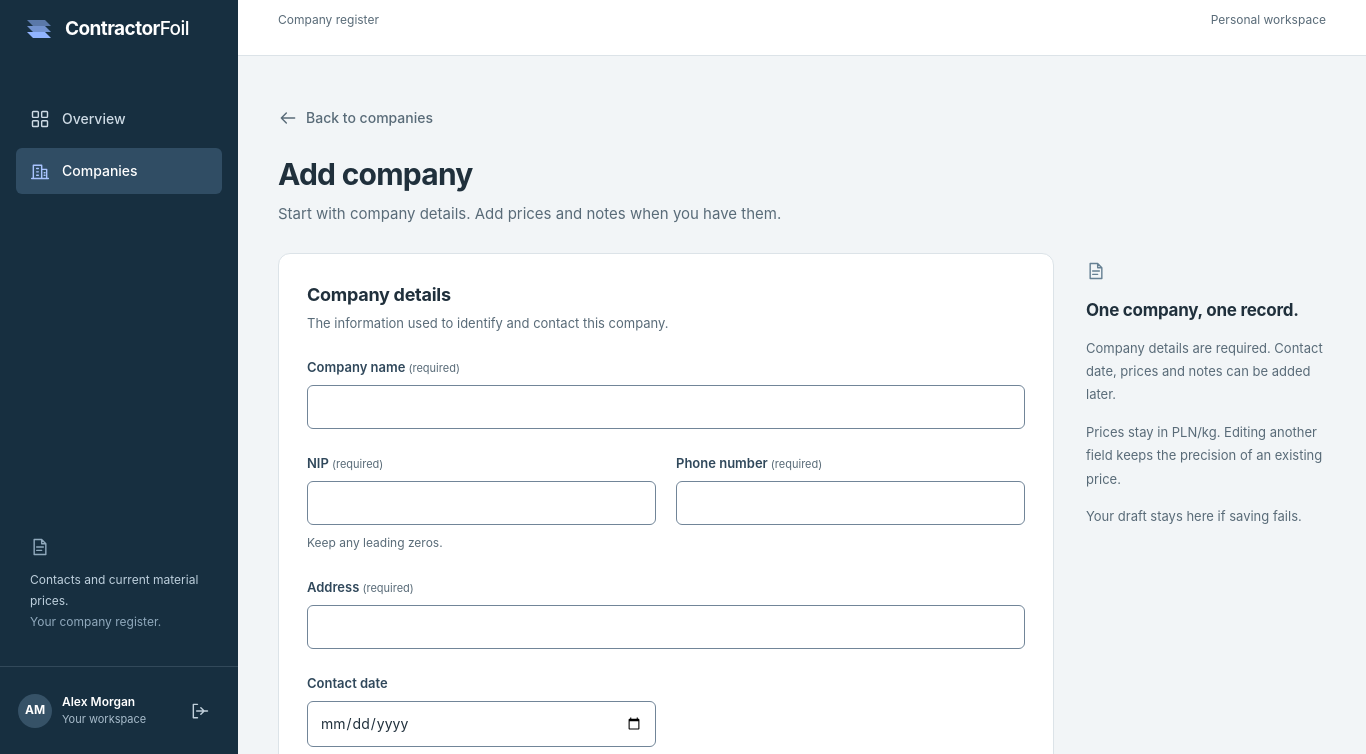
Scenario: prevents repeated submissions while a save is pending
Type "Riverbank Polymers" into the field labelled "Company name (required)". click: [666, 407]
box: [307,385,1025,429]
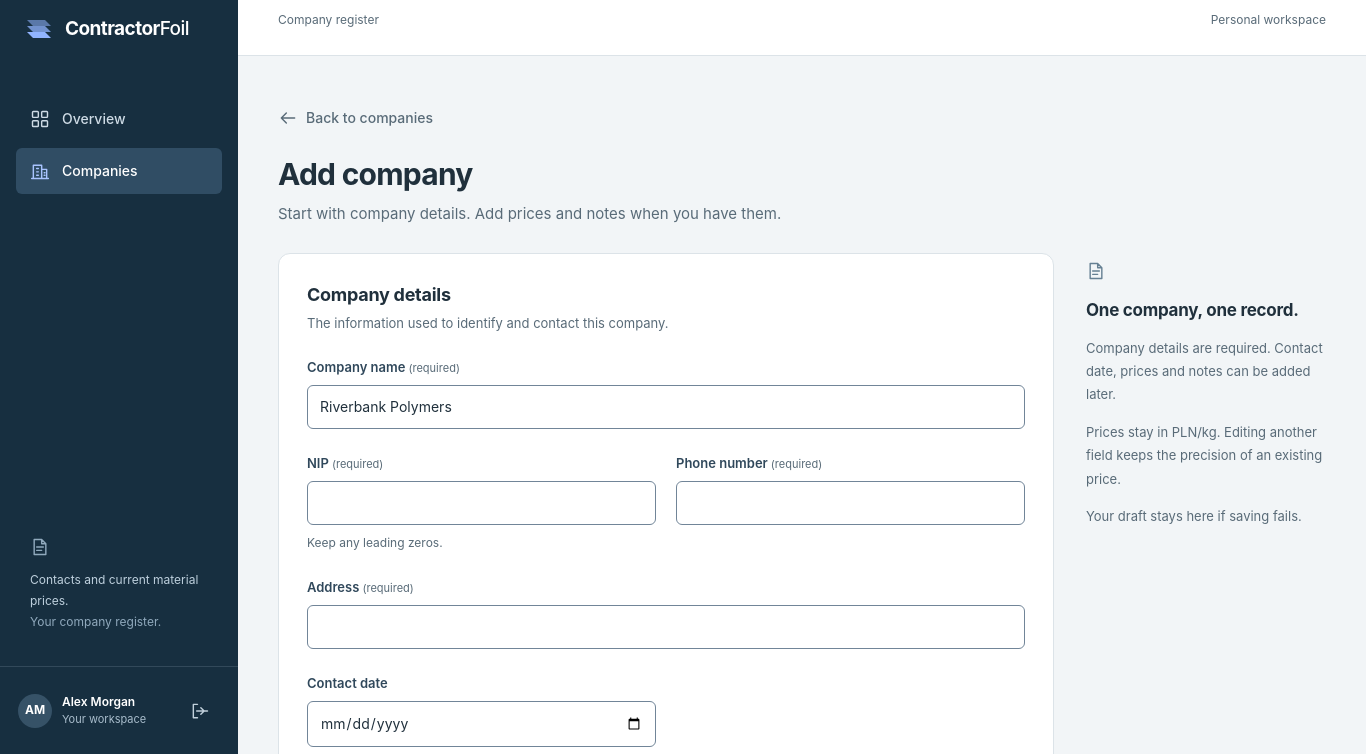
Type "0001234567" into the field labelled "NIP (required)". click: [482, 503]
box: [307,481,656,525]
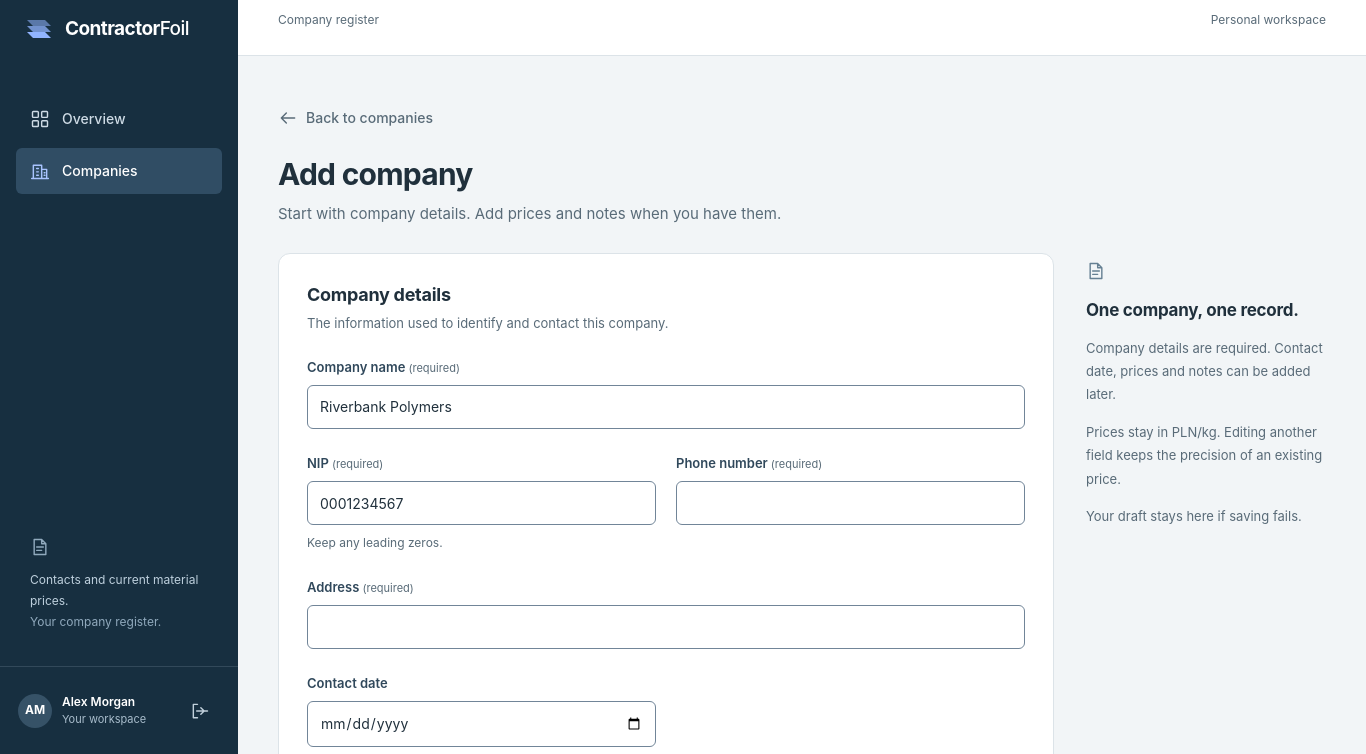
Type "+48 987 654 321" into the field labelled "Phone number (required)". click: [850, 503]
box: [676,481,1025,525]
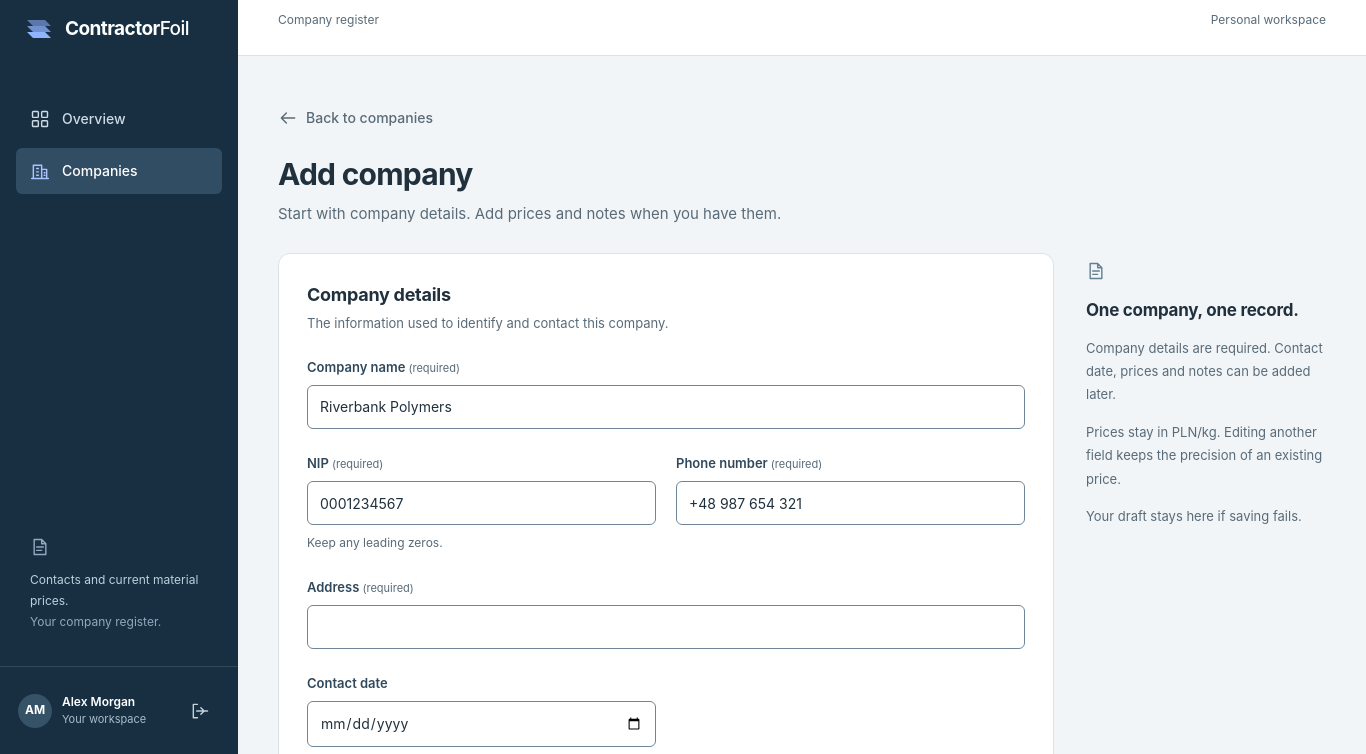
Type "42 Example Avenue" into the field labelled "Address (required)". click: [666, 627]
box: [307,605,1025,649]
(page scrolled)
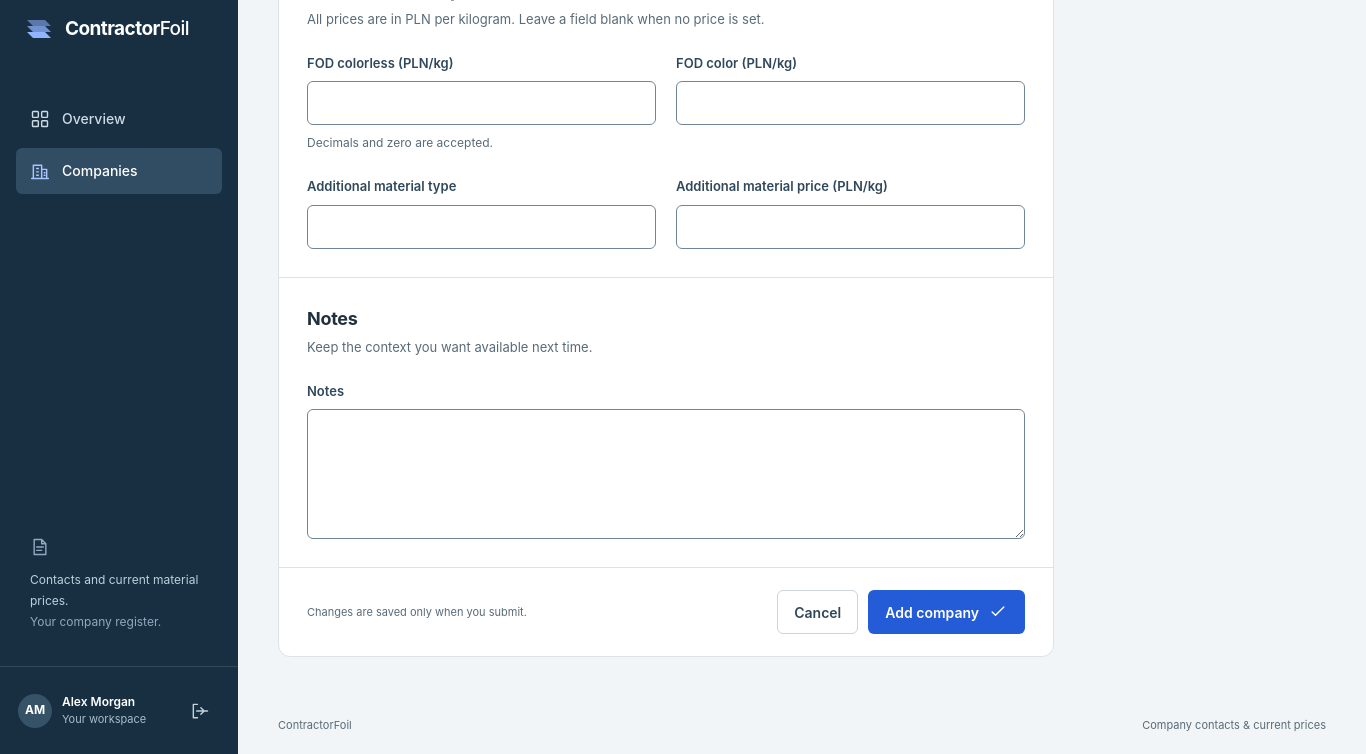
Click the button "Add company". click: [947, 612]
box: [868,590,1025,634]
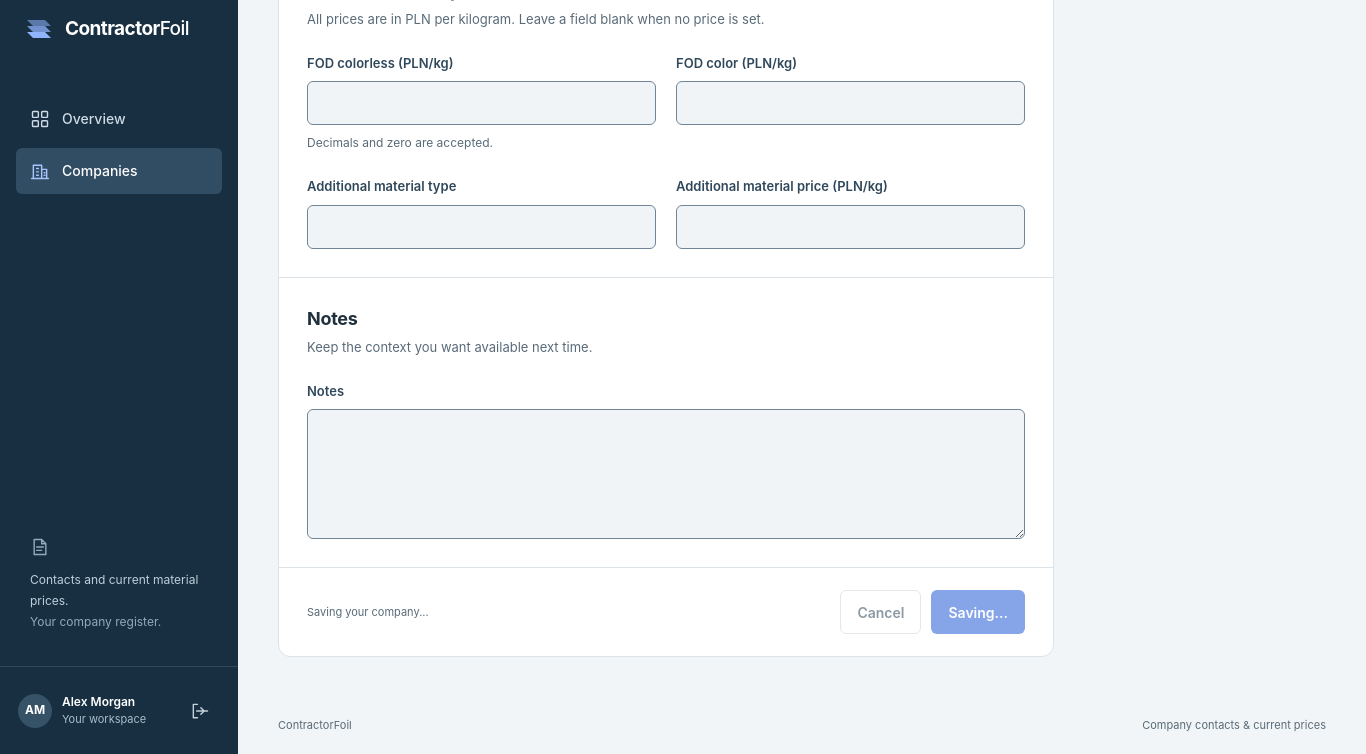
Check: the button "Saving..." is disabled
Click the button "Saving...". click: [978, 612]
box: [932,590,1025,634]
(page scrolled)
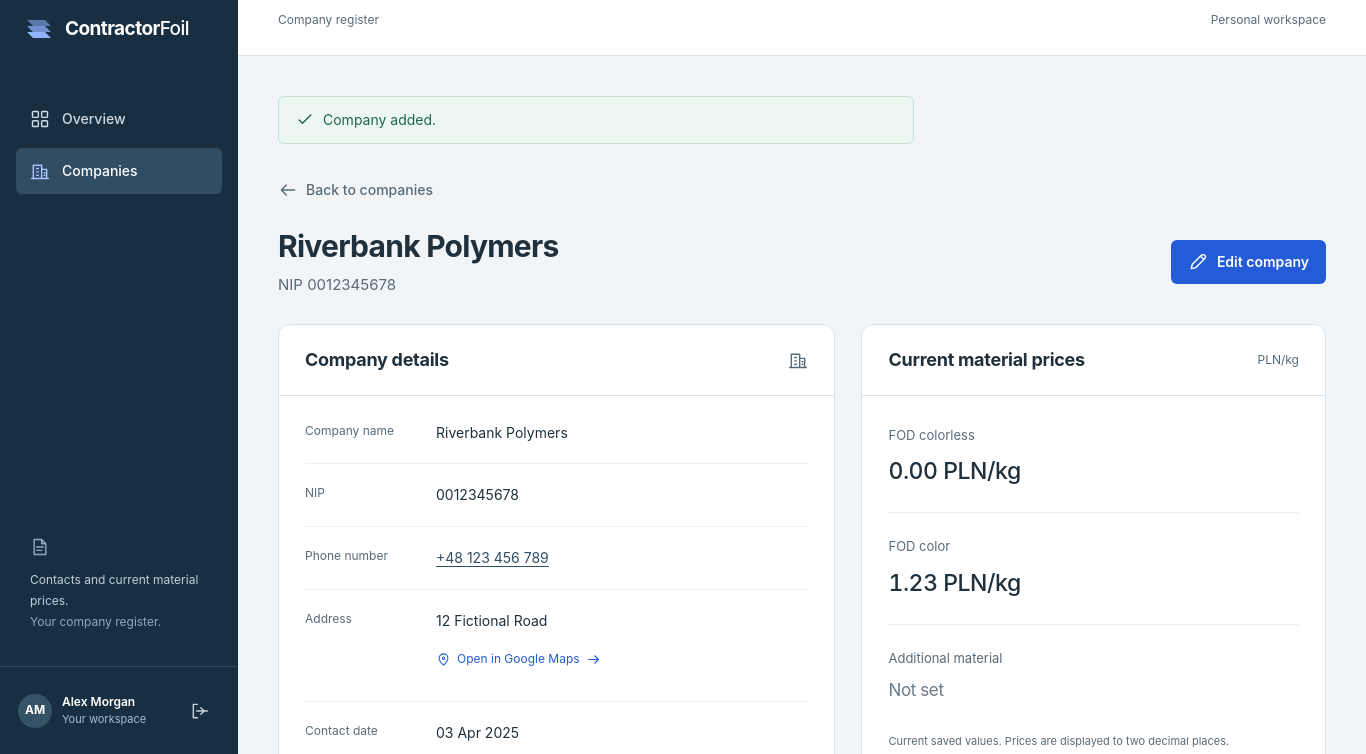
Check: the heading "Riverbank Polymers" is shown, box [278,228,558,265]
